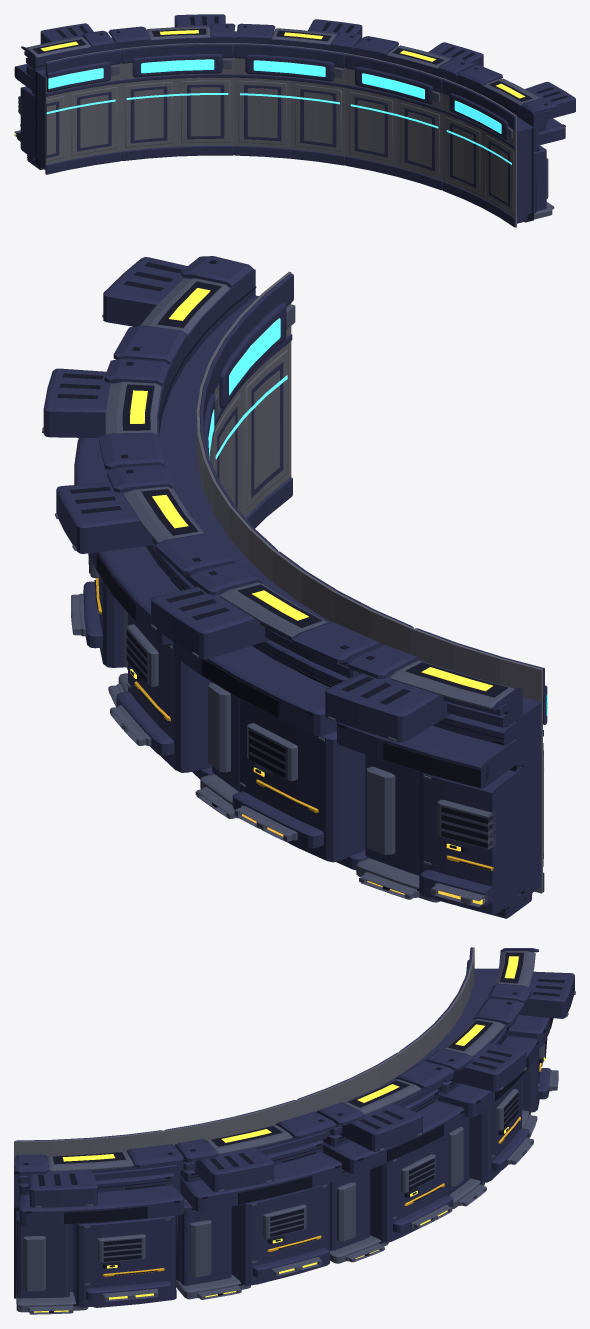
File: hull.arc3.a.glb
3 views of the same model, one above another, from view 1: azimuth 30°, elevation 25°; view 2: azimuth 150°, elevation 25°; view 3: azimuth 270°, elevation 25° (orthographic). The views are drawn at different scales.
Parts seen in each view (by area): view 1: GEO-hull.arc3.a; view 2: GEO-hull.arc3.a; view 3: GEO-hull.arc3.a.
Part boxes in pixels (x1,y1,x2,y2): GEO-hull.arc3.a: [14, 14, 575, 227]; GEO-hull.arc3.a: [42, 256, 547, 918]; GEO-hull.arc3.a: [14, 947, 575, 1314].
Bounding box in the file's own units: 3.43 × 1 × 3.41.
